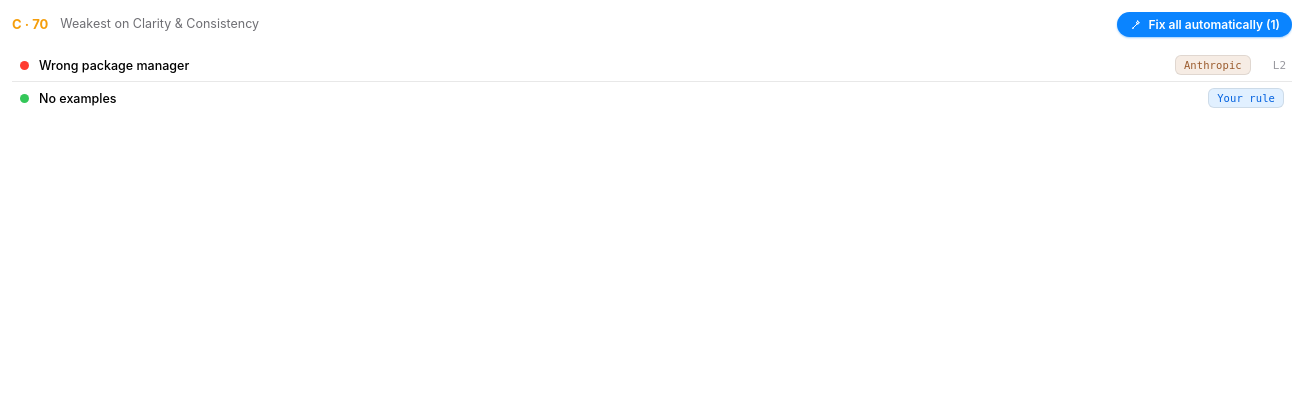
Test: Findings › does not open the next finding, or carry over its panel, once a fix removes the open one
What coordinates should you click on to do the following:
click the button "Wrong package manager Anthropic"
I would click on:
 (114, 65)
Its box is [12,49,1259,81].
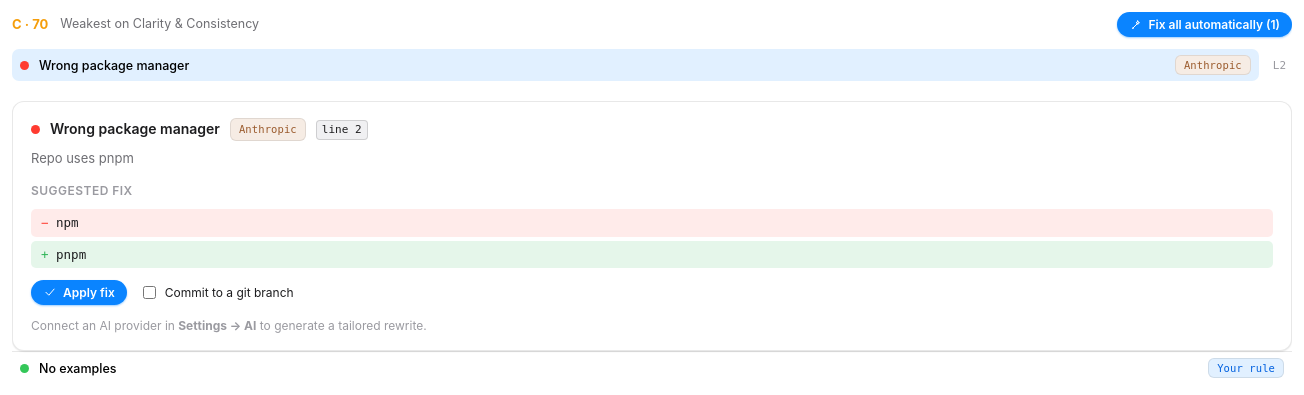
What coordinates should you click on to do the following:
click the button "Apply fix"
I would click on:
 (79, 292)
Its box is [31,280,127,305].
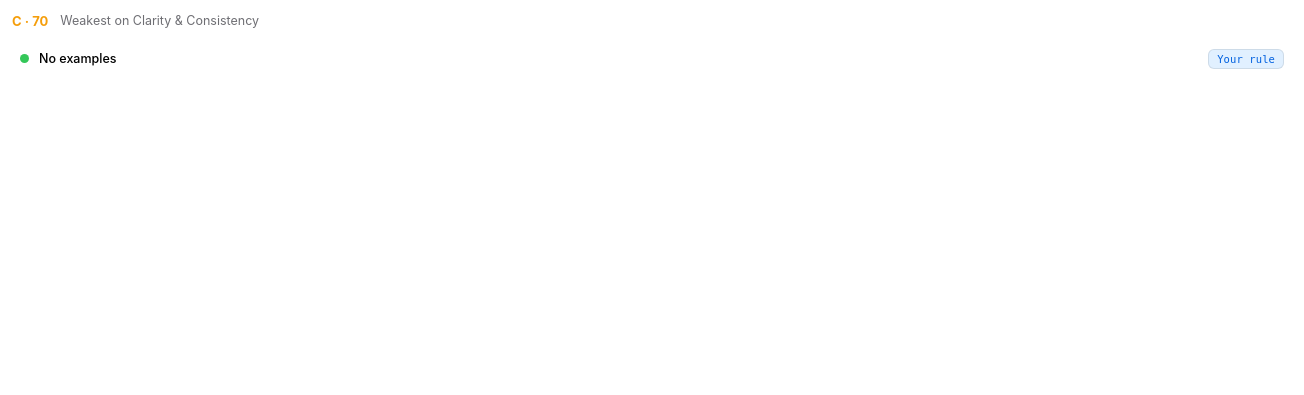
Check: the button "Wrong package manager" is gone
Check: the button "Apply fix" is gone
